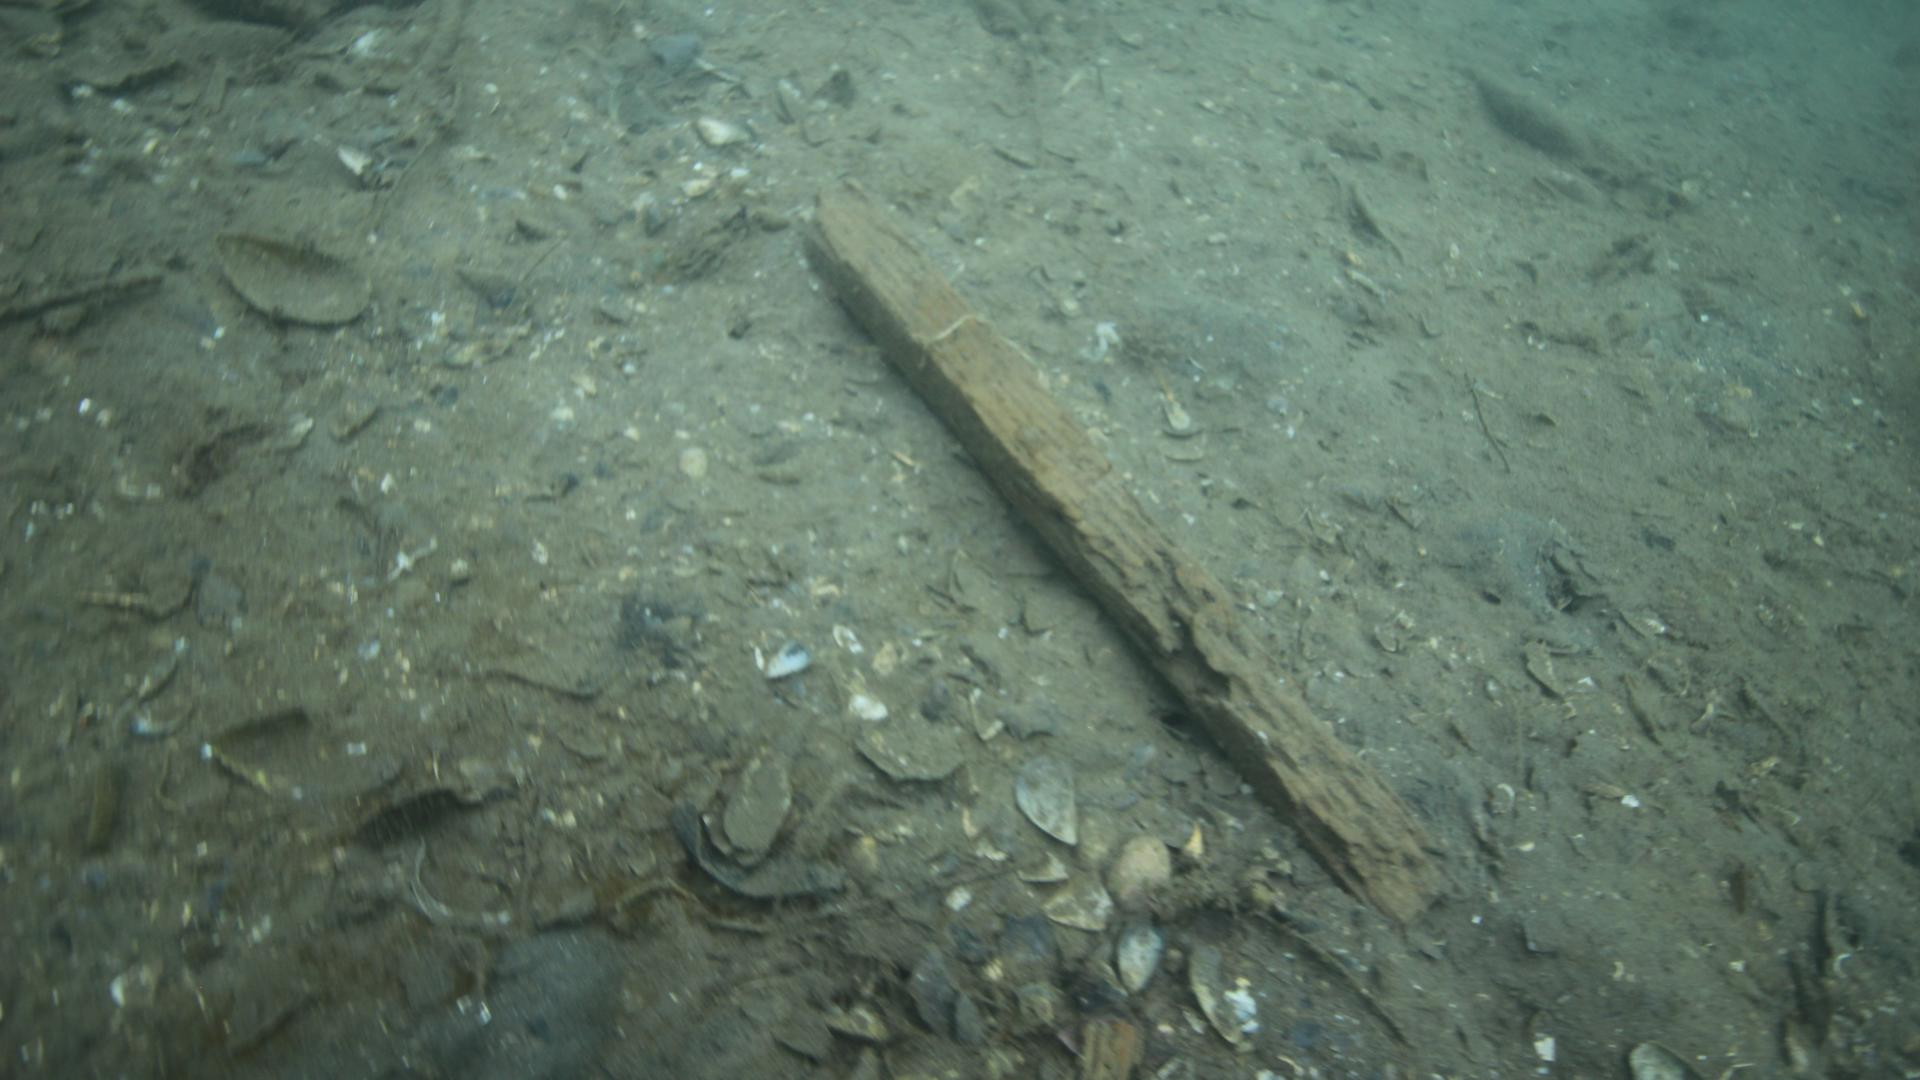wood: (803, 174, 1441, 928)
